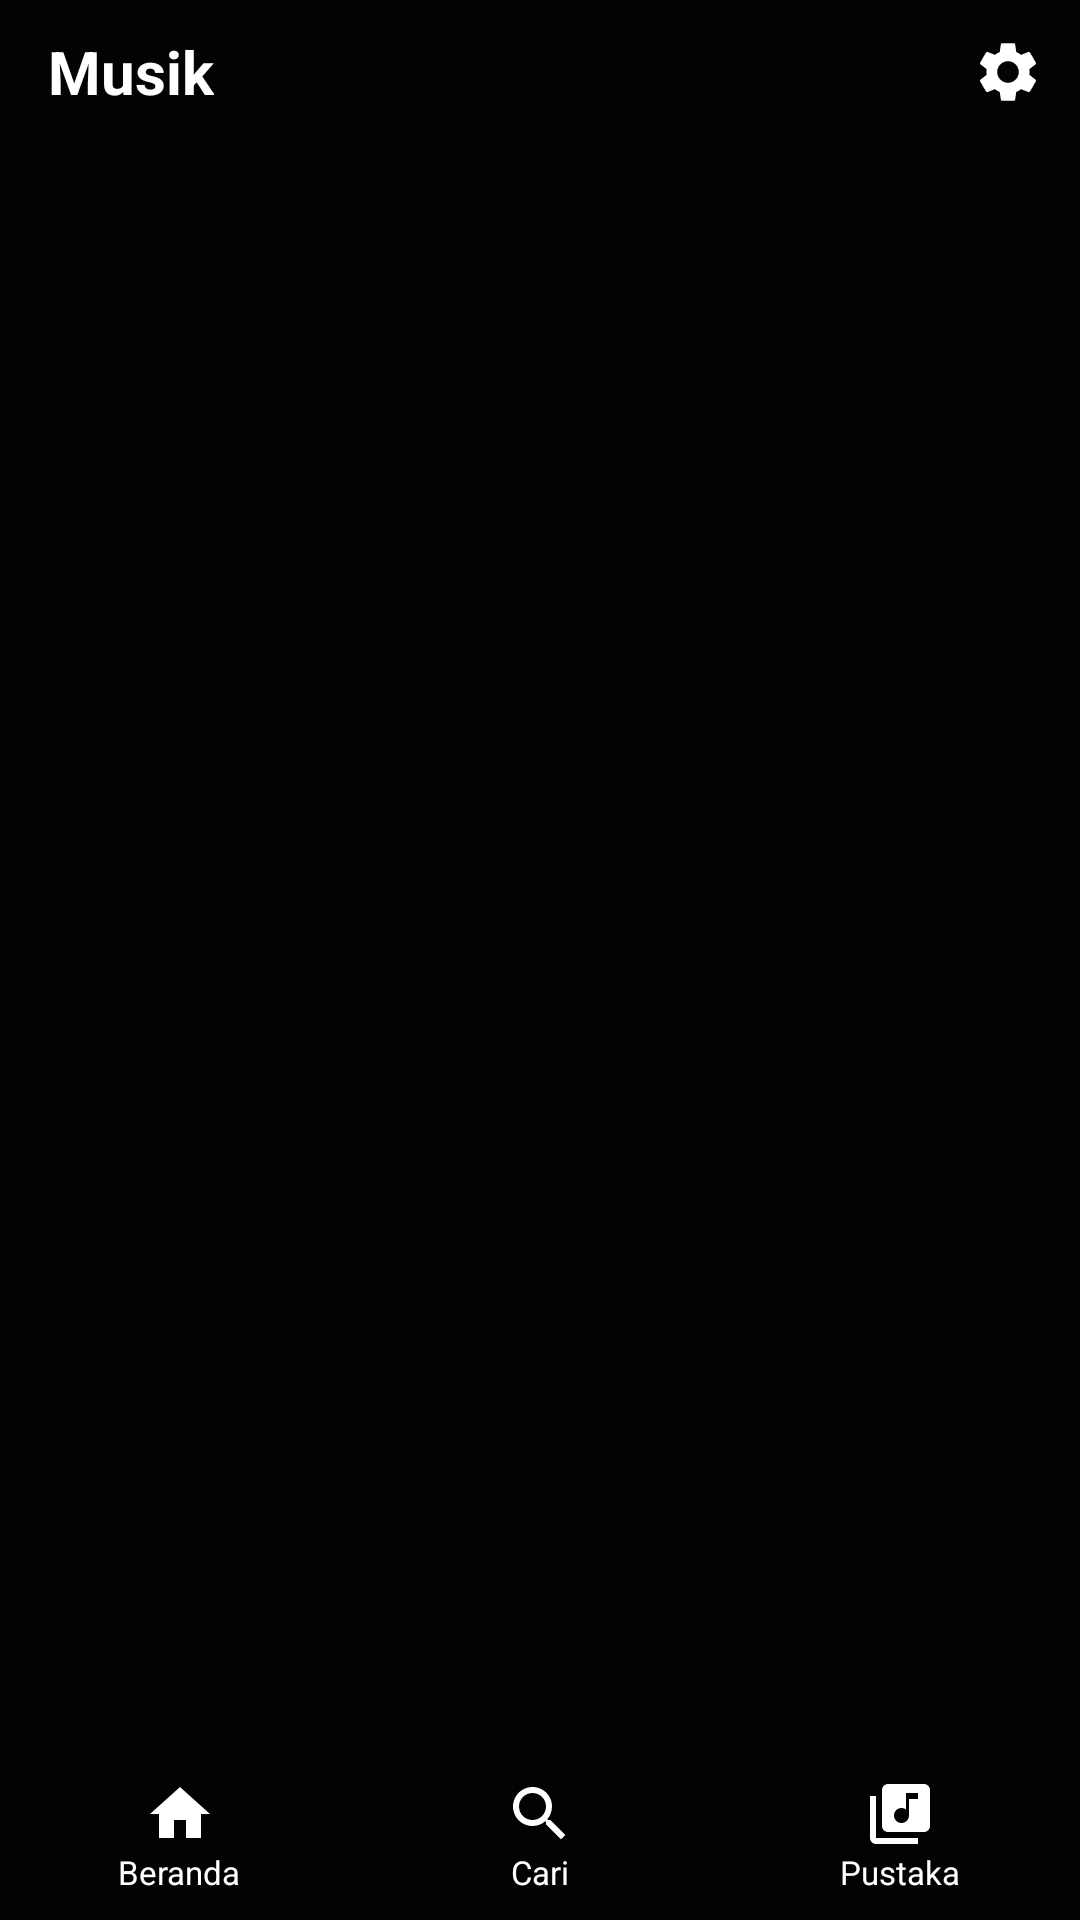

Where to tap for icons on this 1080x1920 app screen, as (x=x, y=y):
Pengaturan: (x=1008, y=72)
